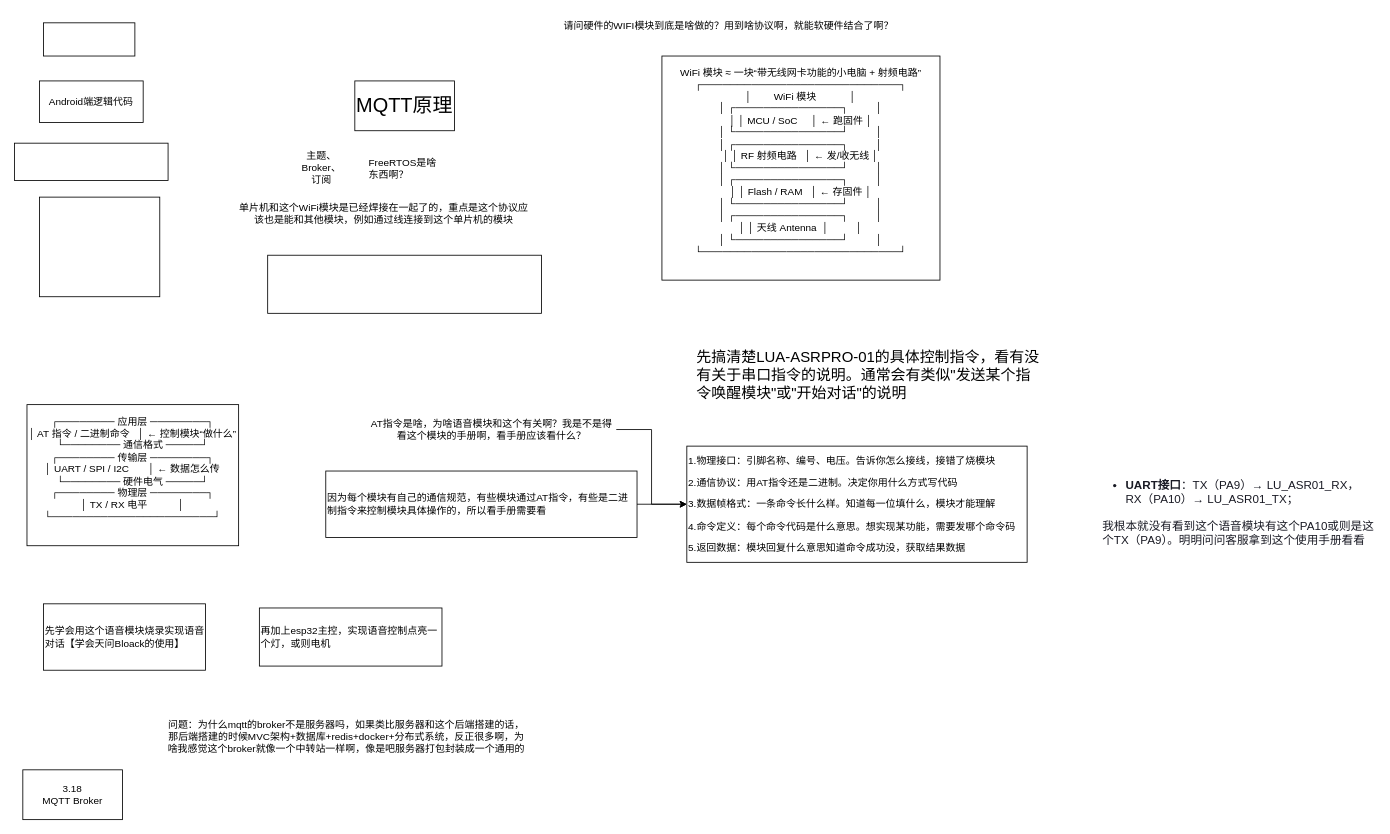
This 1390x834 diagram has some shape labels left out. Each missing label, with the centre of its shape:
"[TCP/IP 协议栈] ↓ [WiFi 驱动] ↓ [WiFi 模块硬件]" belongs at (x=99, y=246).
"主控单片机和WiFi模块关系：主控芯片通过 UART、SPI 等接口使用 AT 指令或驱动与 WiFi 模块通信的通行协议" belongs at (x=404, y=283).
"使用到MQTT协议\HTTP 协议" belongs at (x=91, y=161).
"整个流程" belongs at (x=89, y=39).
